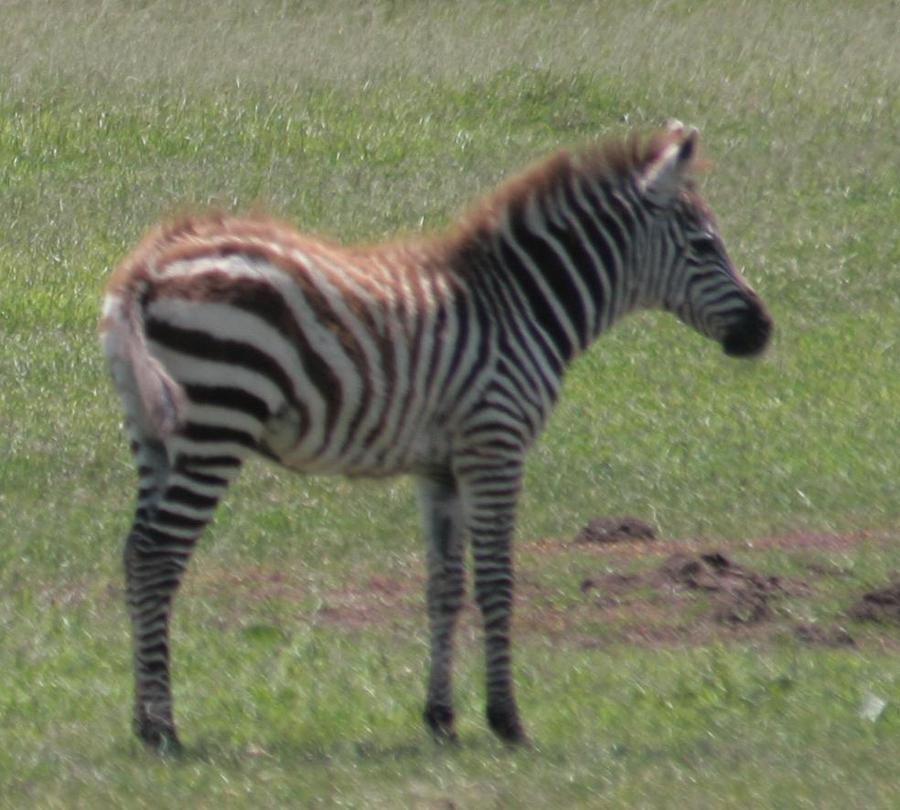zebra_plains: (70, 159, 637, 557)
